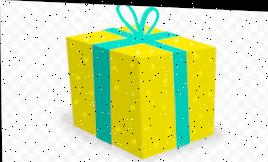cube: (66, 22, 216, 156)
